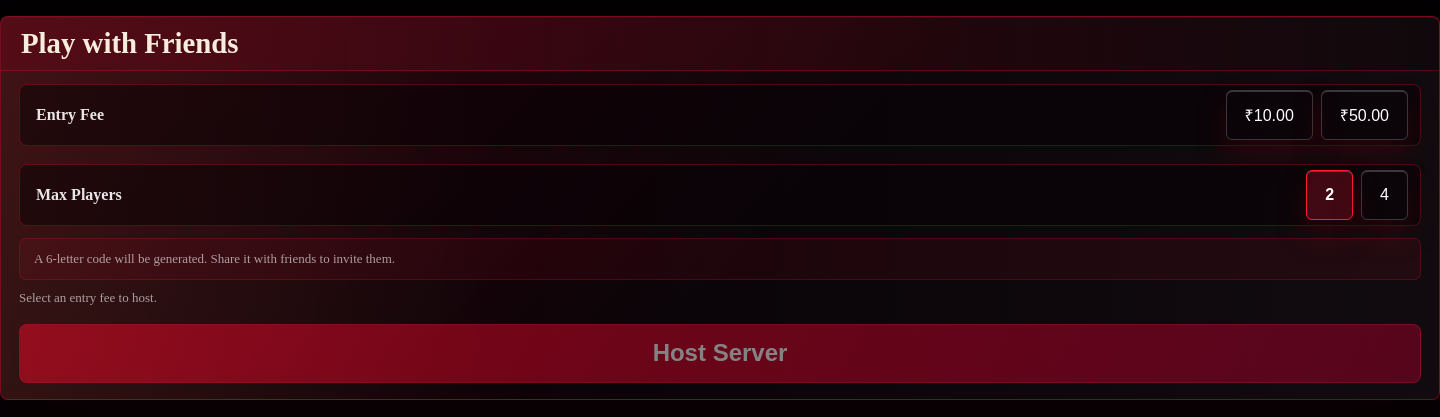
Test: AddServer — hosting a private room › keeps Host Server disabled and says why until a fee is selected
expect the button "Host Server" is disabled: met, box x1=19 y1=324 x2=1421 y2=383
expect the text "Select an entry fee to host." is shown: met, box x1=19 y1=290 x2=157 y2=305
Click the button "₹10.00". click: [1269, 115]
box: x1=1226 y1=90 x2=1313 y2=140
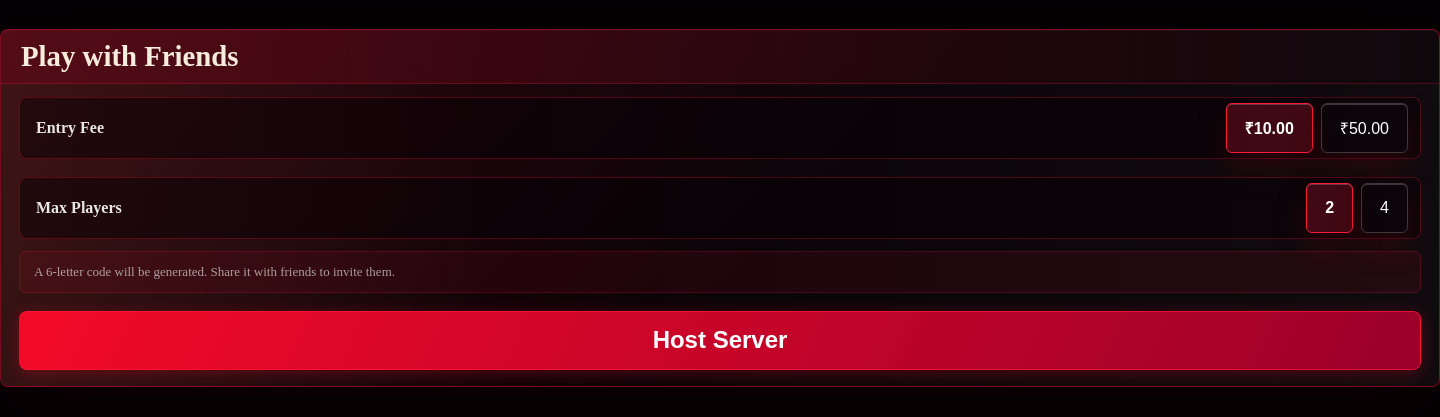
expect the button "Host Server" is enabled: met, box x1=19 y1=311 x2=1421 y2=370
expect the text "Select an entry fee to host." is gone: met
